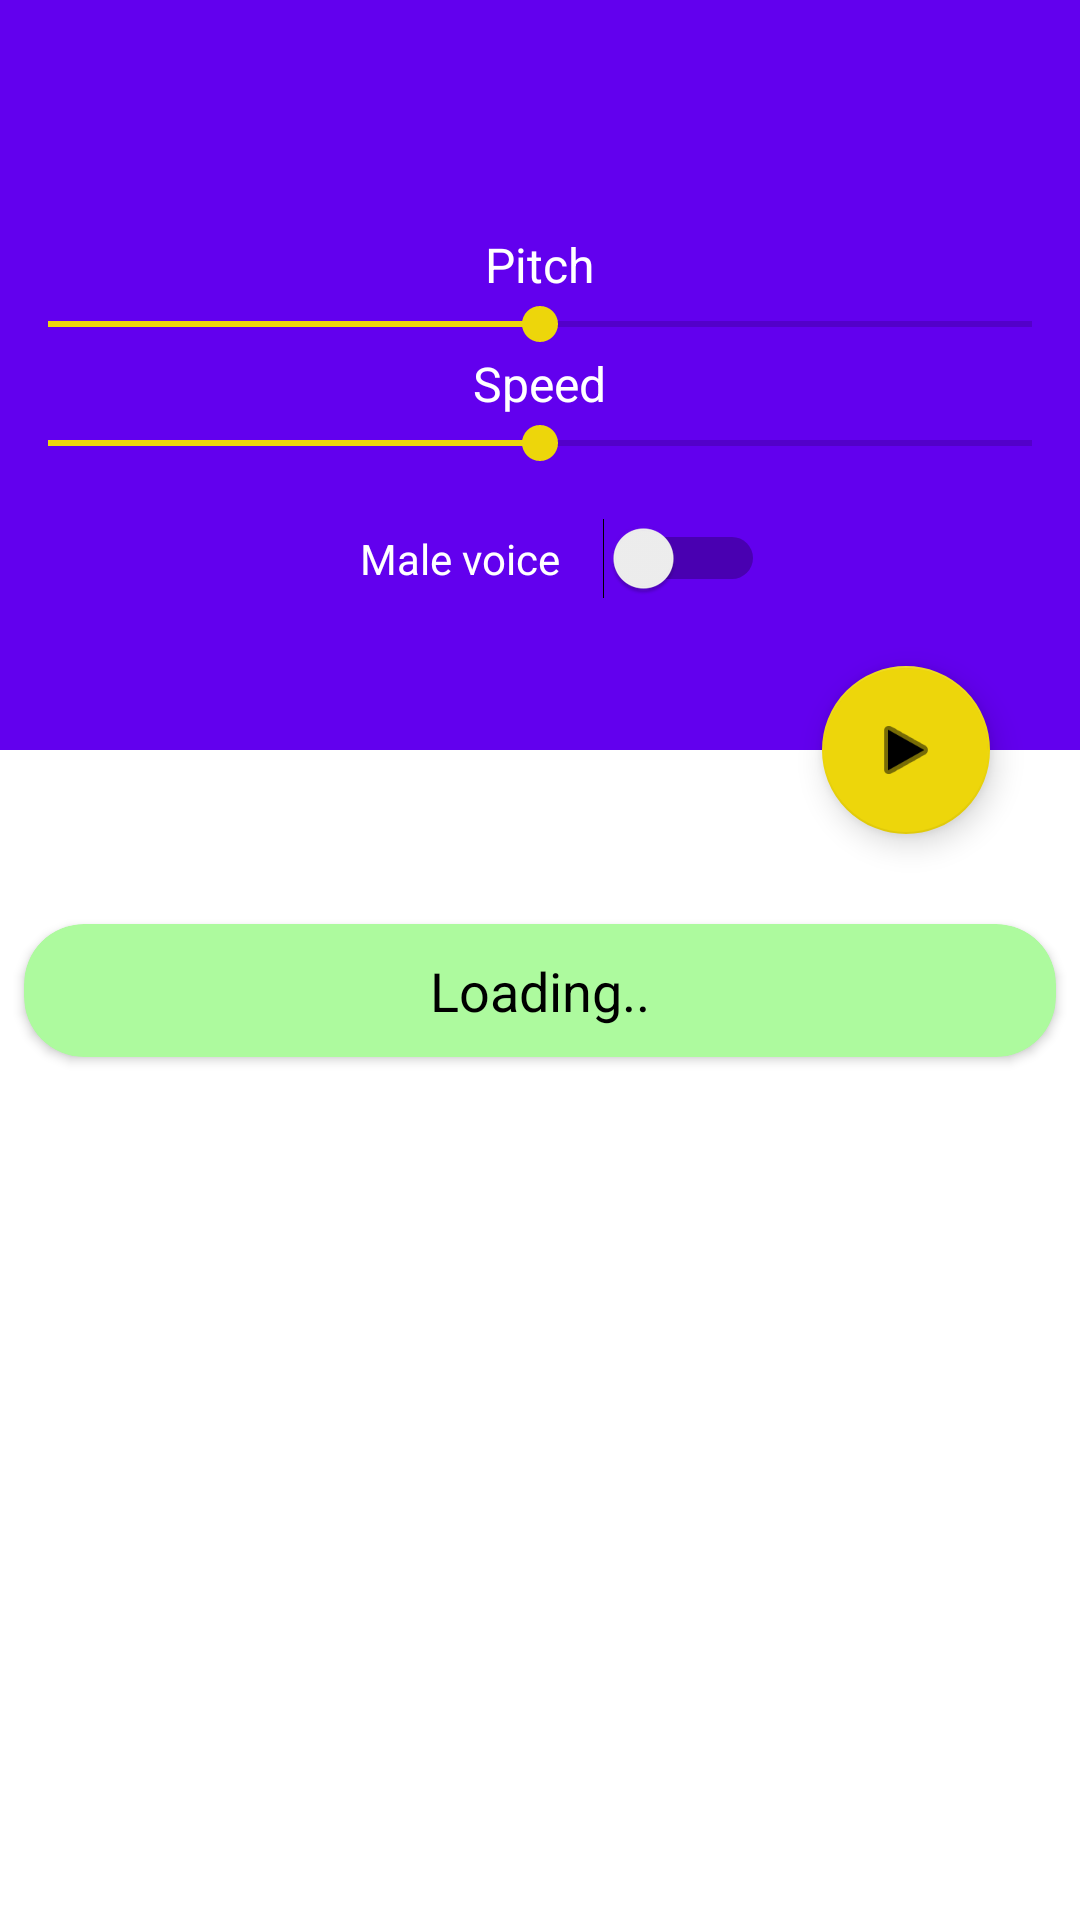

Named icons in this screenshot (1080*1920) and their centers, (x=x, y=y):
play: (x=906, y=750)
